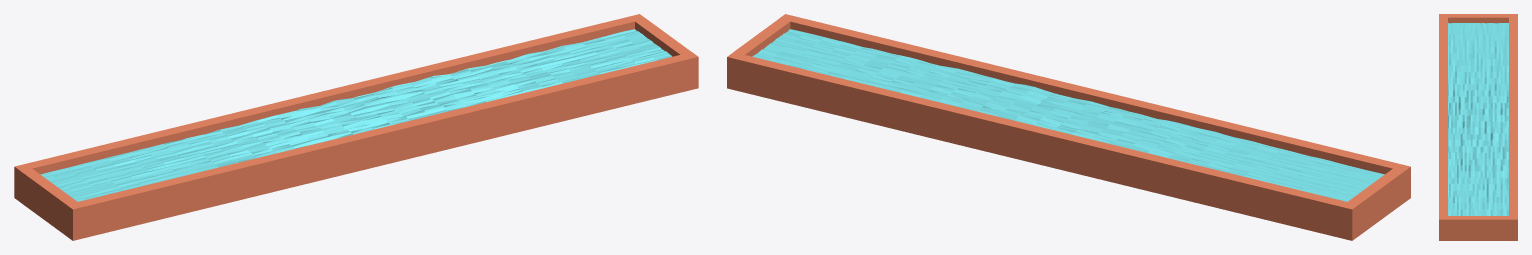
Rendered from gate_lv1.fbx.
3 views of the same model, side by side, from view 1: azimuth 30°, elevation 25°; view 2: azimuth 150°, elevation 25°; view 3: azimuth 270°, elevation 25° (orthographic). The views are drawn at different scales.
Visible parts, largest first — view 1: gate_lv1_down, water_lv1, gate_lv1_up, gate_lv1_left, gate_lv1_right; view 2: gate_lv1_up, water_lv1, gate_lv1_down, gate_lv1_left, gate_lv1_right; view 3: water_lv1, gate_lv1_up, gate_lv1_down, gate_lv1_right, gate_lv1_left.
Boxes of the visible parts, <box> form: gate_lv1_down: <box>66,52,698,240</box>; water_lv1: <box>40,29,672,201</box>; gate_lv1_up: <box>14,14,645,202</box>; gate_lv1_left: <box>21,168,77,235</box>; gate_lv1_right: <box>635,19,691,56</box>; gate_lv1_up: <box>727,52,1358,240</box>; water_lv1: <box>752,29,1384,201</box>; gate_lv1_down: <box>779,14,1410,202</box>; gate_lv1_left: <box>1348,168,1404,235</box>; gate_lv1_right: <box>733,19,790,56</box>; water_lv1: <box>1448,23,1508,215</box>; gate_lv1_up: <box>1509,14,1517,240</box>; gate_lv1_down: <box>1439,14,1447,240</box>; gate_lv1_right: <box>1448,216,1509,240</box>; gate_lv1_left: <box>1448,14,1509,23</box>.
Bounding box in the file's own units: 17353 × 841 × 2815.
